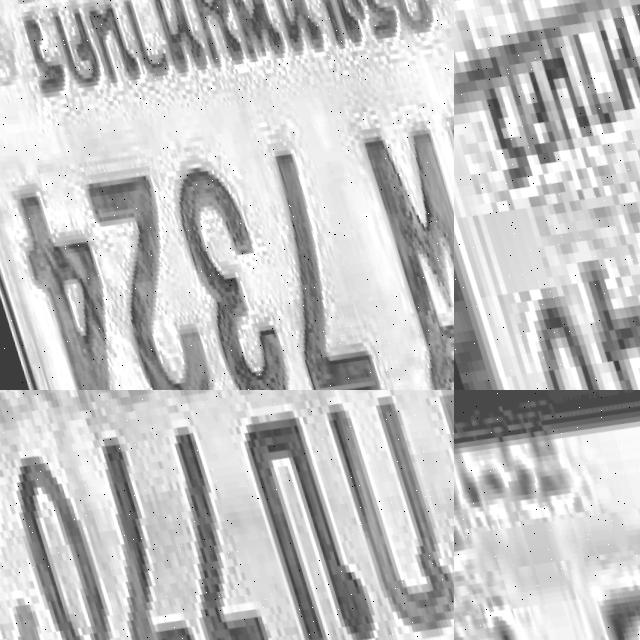license-plate: (0, 0, 454, 390), (0, 390, 454, 640), (454, 0, 640, 390), (454, 390, 640, 640)
